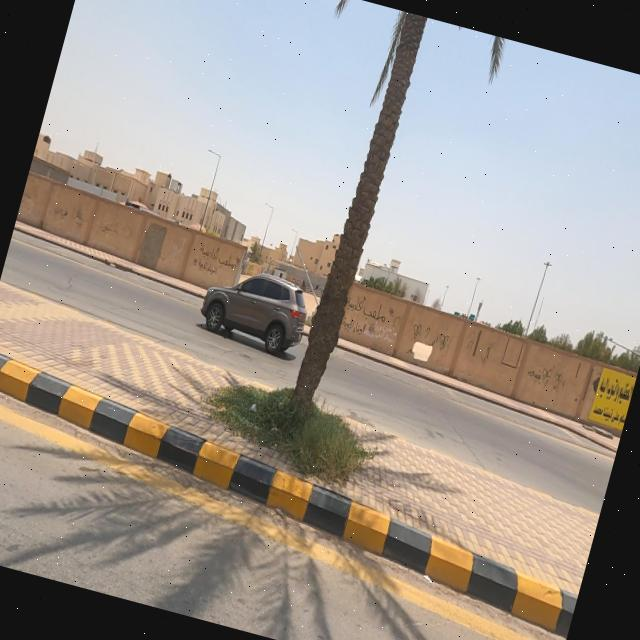Graffiti: (339, 292, 404, 347), (192, 243, 241, 282), (99, 220, 138, 244), (476, 342, 497, 370), (70, 206, 92, 230), (411, 323, 433, 344), (472, 329, 484, 359), (51, 203, 71, 221), (551, 374, 567, 394), (539, 368, 554, 389), (436, 333, 451, 353), (526, 368, 542, 385), (591, 376, 600, 395)
